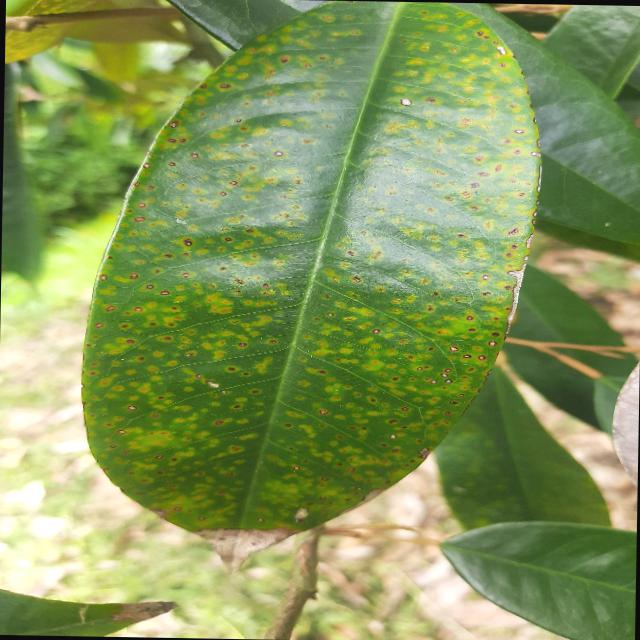Leaf Spot: (70, 0, 552, 580)
